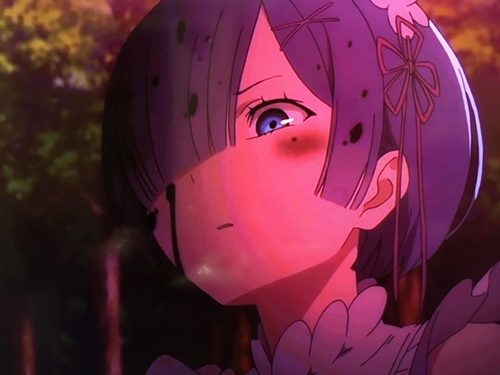rem: (102, 2, 500, 375)
